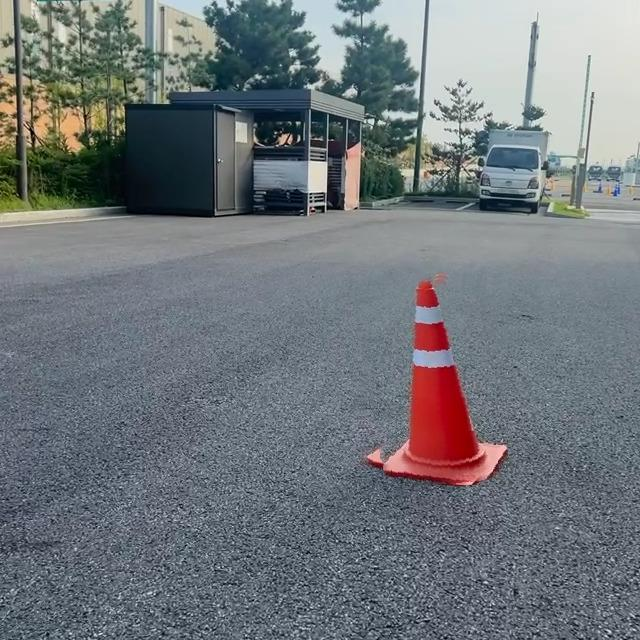fallen_object: (365, 243, 515, 552)
